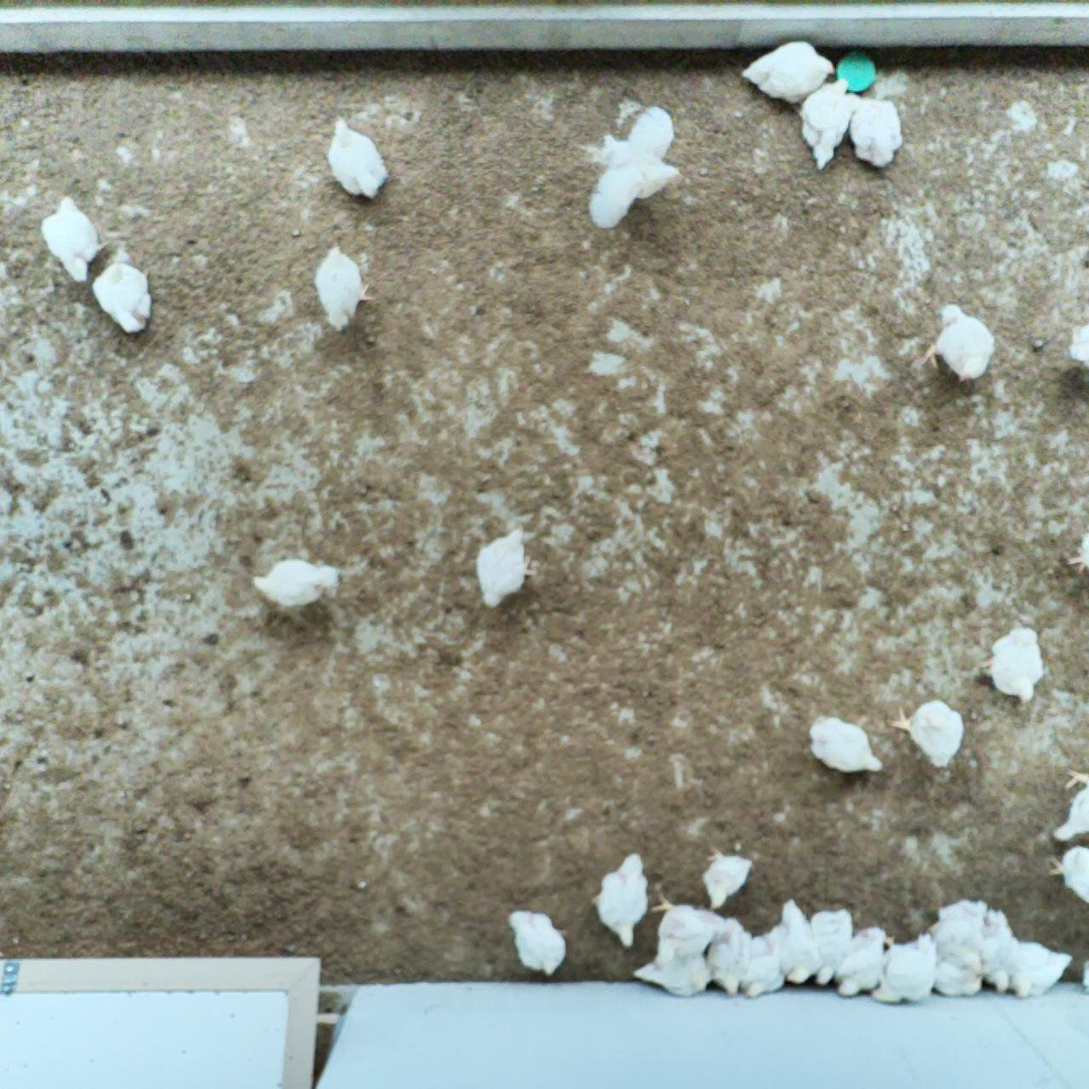chicken: (583, 103, 686, 230), (736, 36, 837, 107), (312, 241, 380, 334), (39, 195, 109, 284), (592, 851, 651, 949), (794, 77, 856, 169), (326, 113, 391, 200), (474, 524, 538, 612), (929, 304, 997, 386), (893, 696, 966, 770), (644, 887, 719, 958), (981, 624, 1046, 704), (872, 931, 938, 1009), (253, 554, 340, 613), (90, 258, 154, 336), (806, 710, 884, 773), (832, 925, 894, 1002), (928, 900, 987, 980), (1006, 932, 1072, 1003), (847, 89, 905, 169), (701, 912, 751, 1002), (505, 905, 568, 975), (633, 948, 713, 1000), (805, 906, 855, 988), (777, 900, 822, 989), (974, 907, 1018, 998), (919, 946, 986, 999), (700, 842, 753, 908), (741, 927, 785, 999), (1050, 765, 1089, 842), (1051, 842, 1089, 904), (1064, 524, 1089, 584), (1065, 317, 1089, 365)
